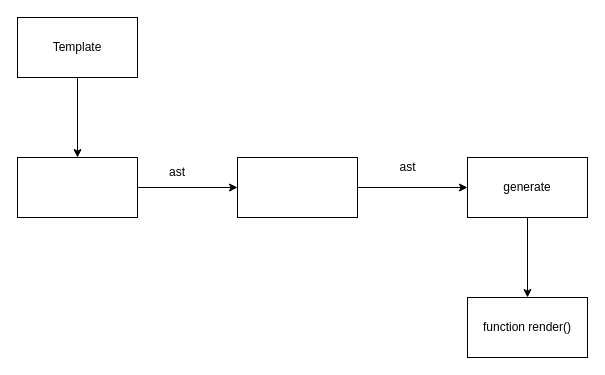
This 605x375 diagram has some shape labels left out. The shapes that lost their labels are listed below. From the top down, each one's centre as x and y in pixels, then its label:
(77,187): parse
(297,187): transform
